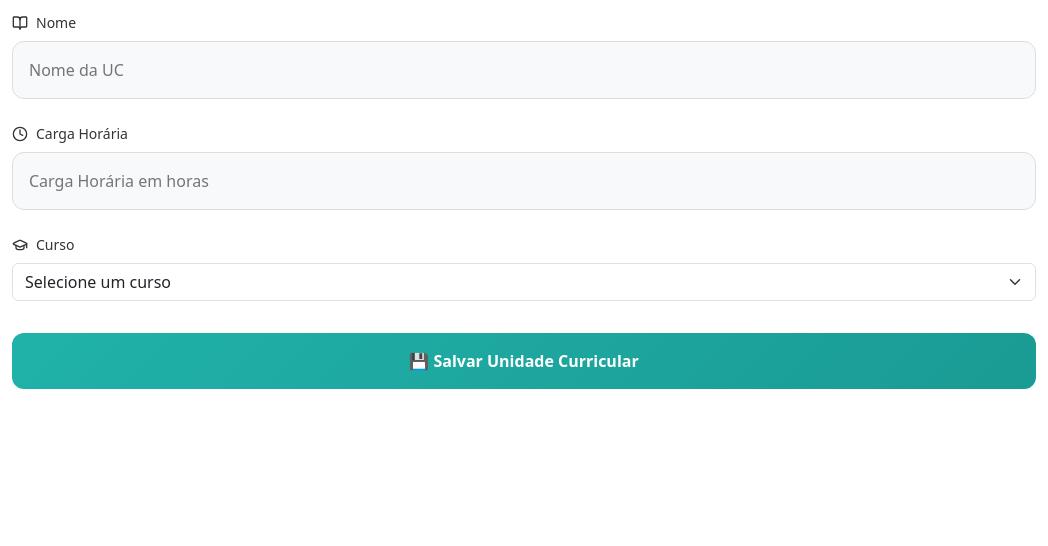
UcsRegistrationForm › valida carga horária fora do intervalo
Type "2500" into the number field labelled "Carga Horária" at (524,181), box [12,152,1036,210]
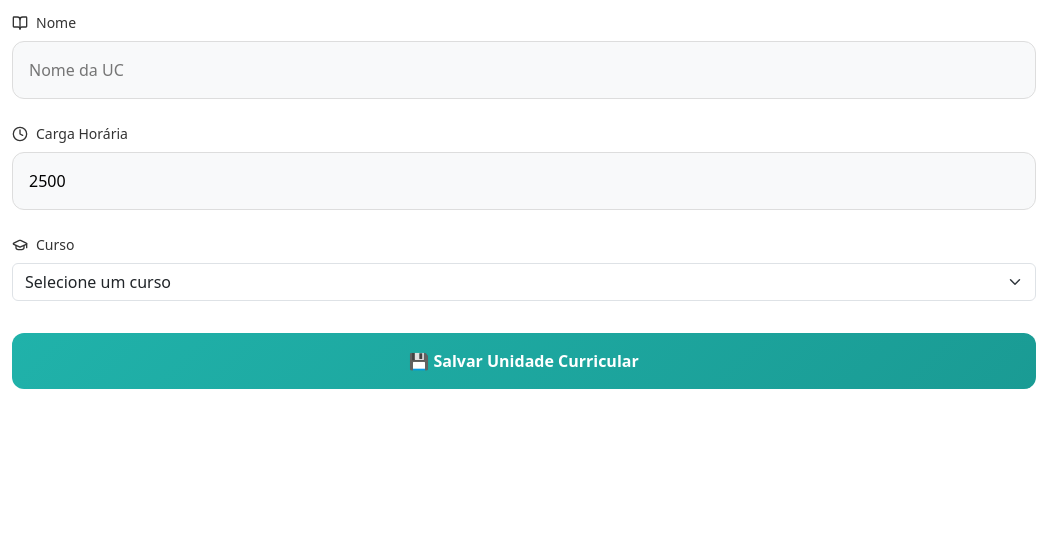
Click the button "💾 Salvar Unidade Curricular" at (524,361), box [12,333,1036,389]
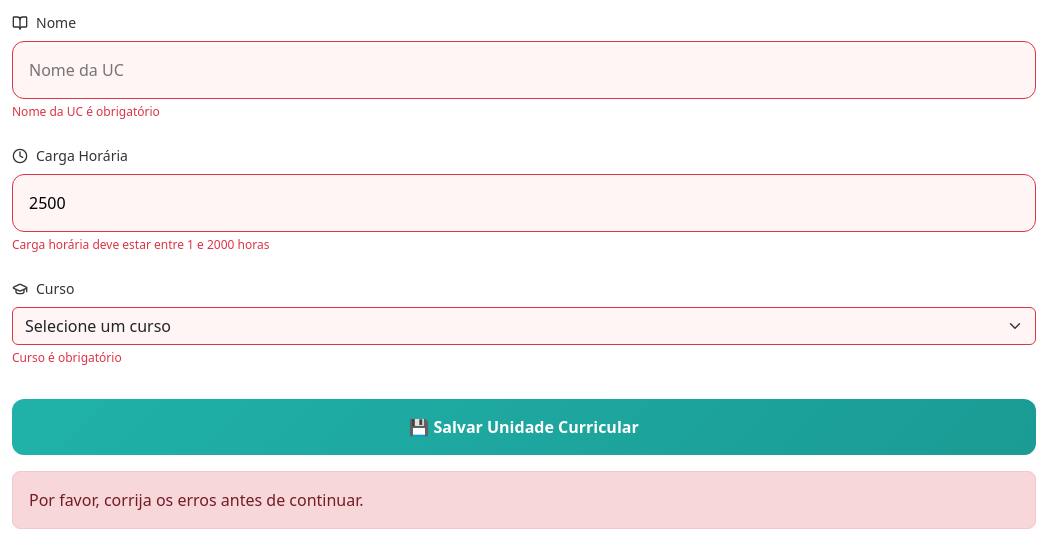
Expected: the text "Carga horária deve estar entre 1 e 2000 horas" is shown, [12,236,269,253]
